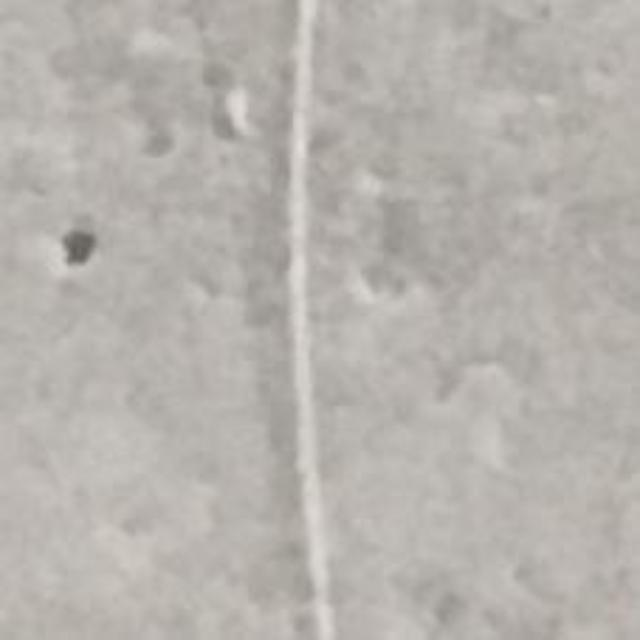peeling plaster: (63, 229, 95, 265)
